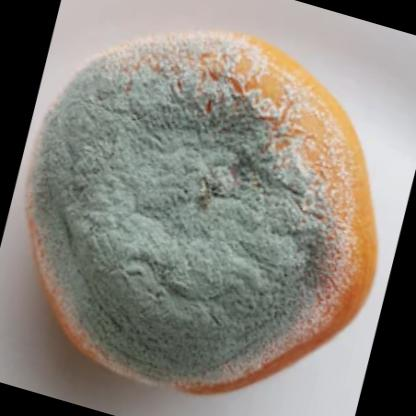rotten: (25, 31, 380, 395)
